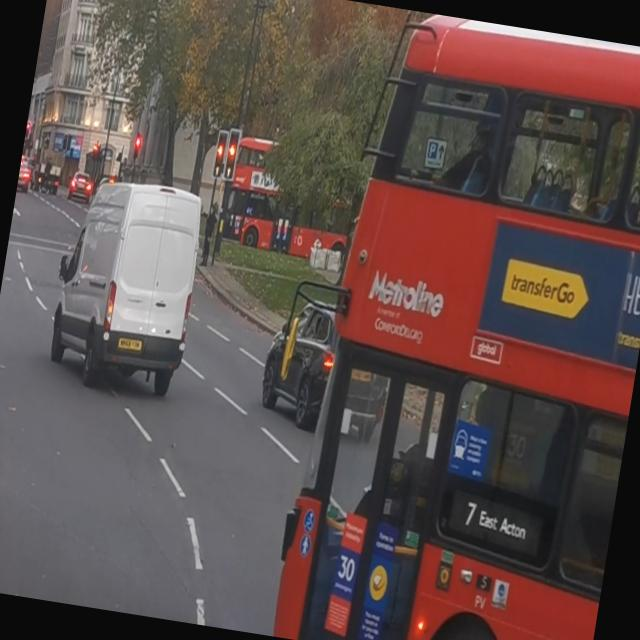Vehicle: (301, 9, 640, 640), (41, 172, 210, 398), (256, 286, 393, 434), (16, 162, 32, 192)
